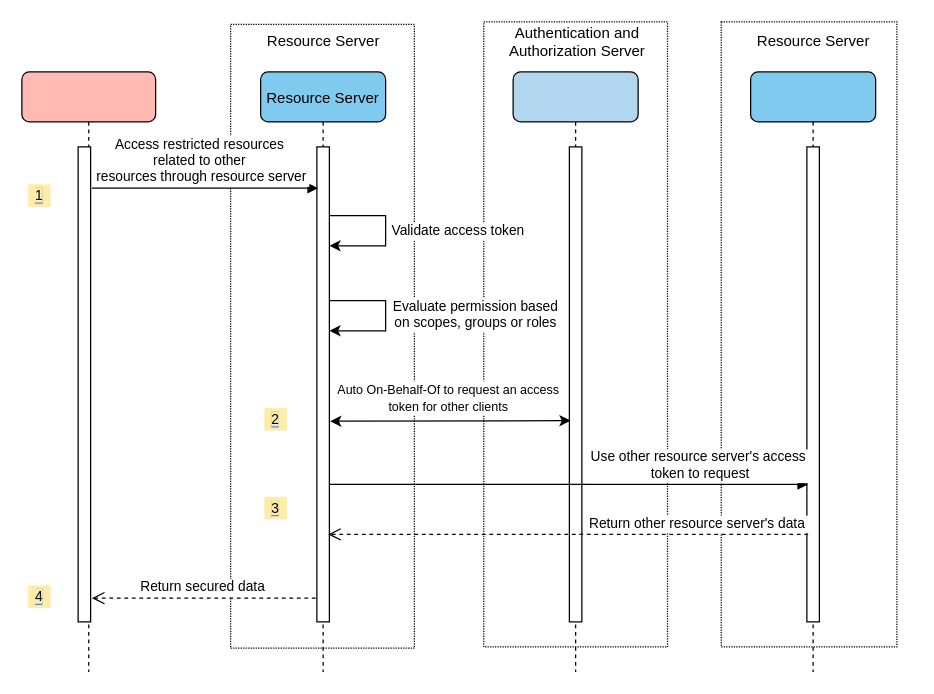
Some shapes in this 934 by 694 pixel diagram are drawn without their labels. The box of each missing label's shape, as (x1, y1, x2, y2) in pixels:
Azure AD: (512, 71, 638, 672)
Other Resource Server: (749, 71, 876, 672)
Web Application or Resouce Server: (21, 71, 156, 672)
